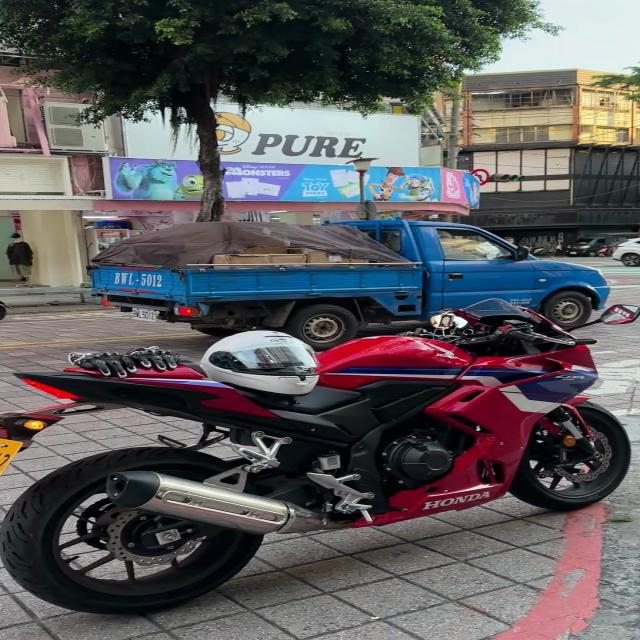motocycle: (0, 300, 631, 612)
trunk: (90, 220, 609, 350)
